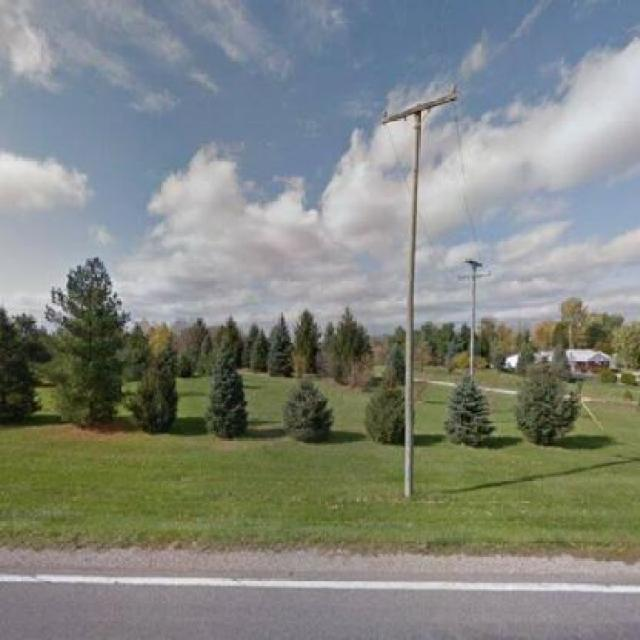pole: (372, 84, 460, 507)
